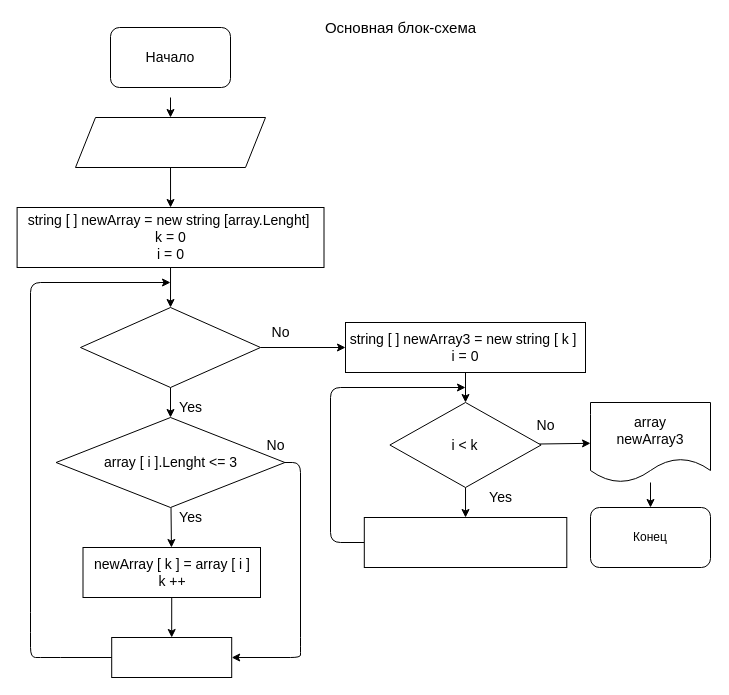
This 729x695 diagram has some shape labels left out. Here are the shapes that lost their labels. From the top down, the centre of each, then its label:
[170,142]: string [ ] array
[170,347]: i < array.Lenght
[465,542]: newArray3 [ i ] = newArray [ i ] i++
[171,657]: i++
